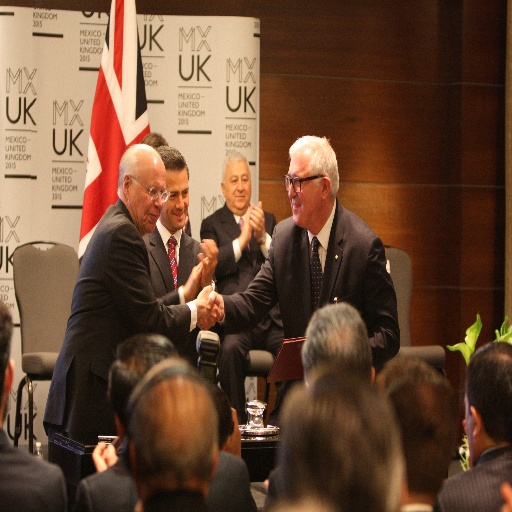hand: (194, 287, 222, 331), (183, 254, 208, 299), (196, 237, 218, 287), (223, 406, 241, 461), (248, 197, 265, 242), (239, 199, 254, 243), (90, 439, 108, 473), (101, 440, 119, 469)
